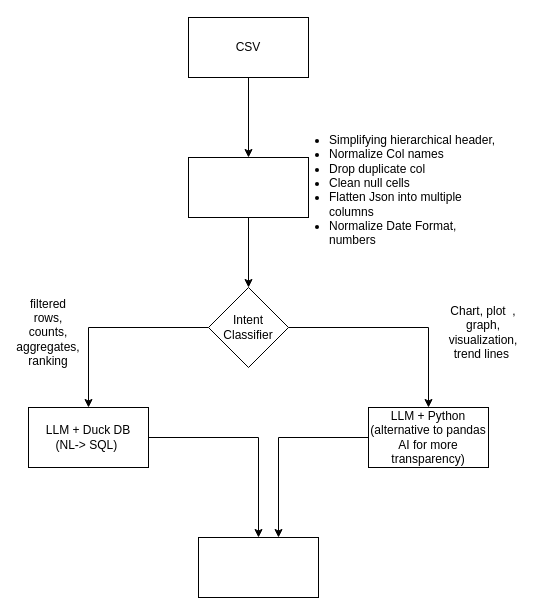
The diagram is 536 pixels wide and 615 high, and some of its shapes have lost their labels. The box of each missing label's shape, as (x1, y1, x2, y2) in pixels:
Data Cleaning: (188, 156, 308, 218)
Final Answer: (198, 536, 318, 598)
